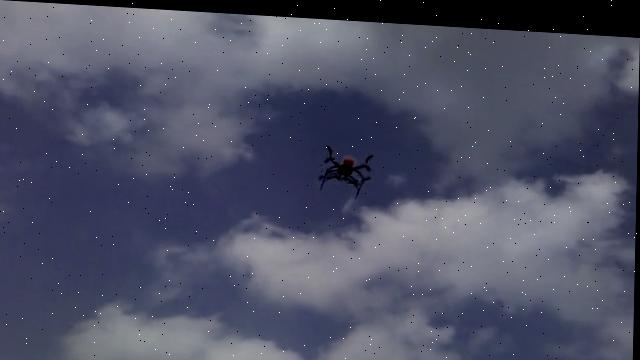drone: (318, 136, 376, 195)
